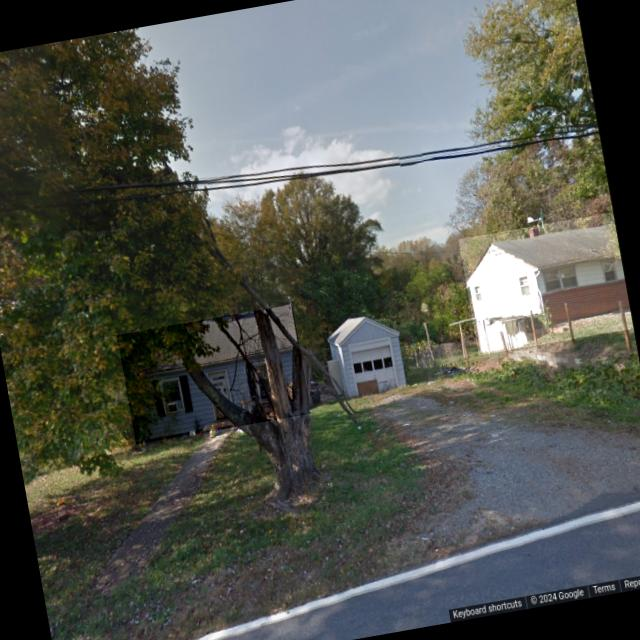House: (117, 304, 310, 444), (458, 212, 633, 355)
